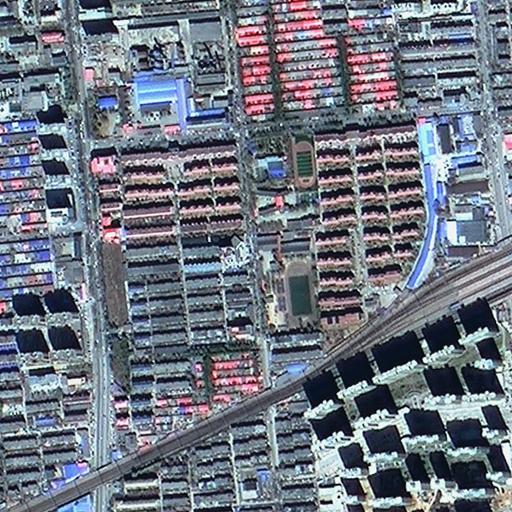school: (258, 233, 319, 332), (252, 138, 315, 218)
